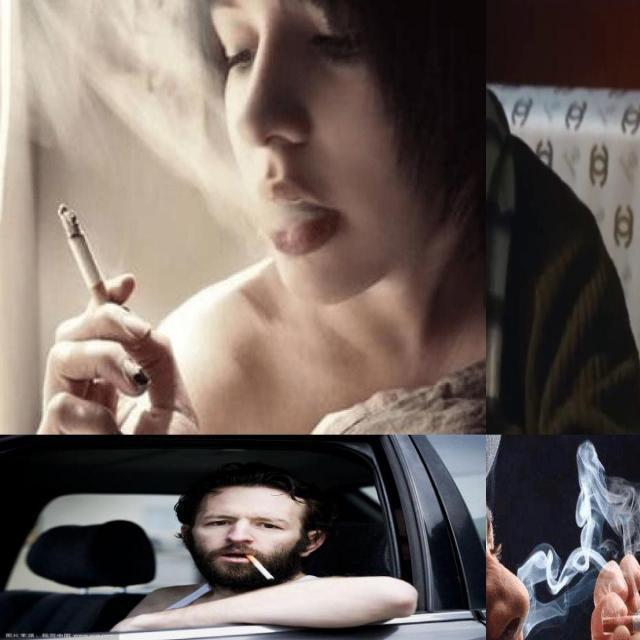rokok: (58, 204, 110, 306), (242, 551, 278, 581)
